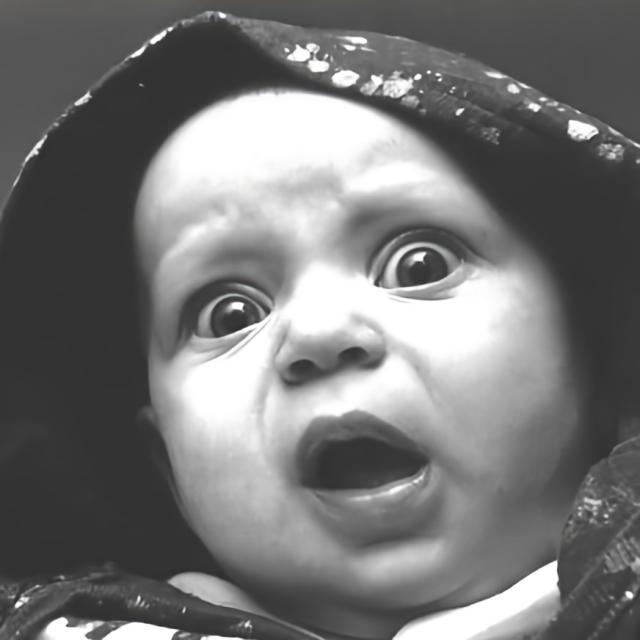fear: (131, 84, 598, 616)
